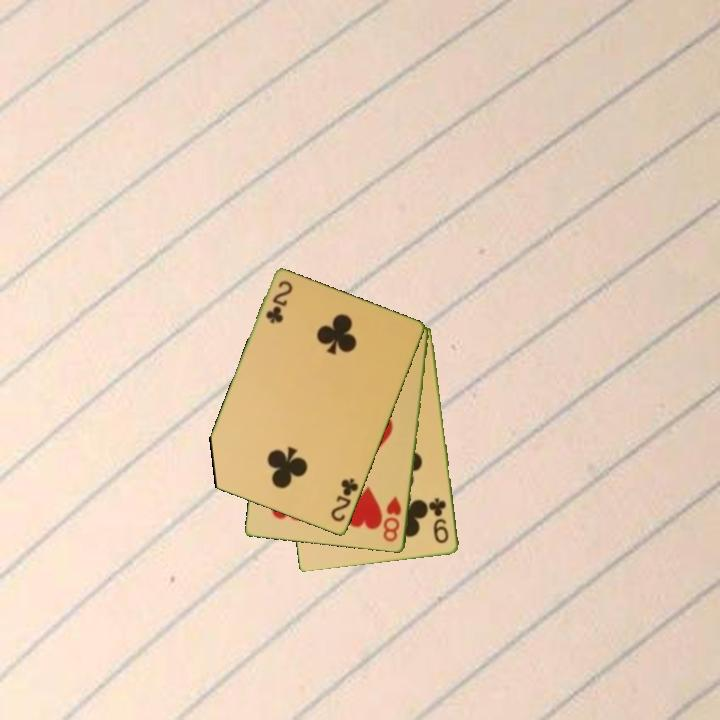2c: (327, 475, 362, 525), (262, 277, 296, 327)
8h: (380, 493, 405, 545)
9c: (428, 495, 452, 547)
